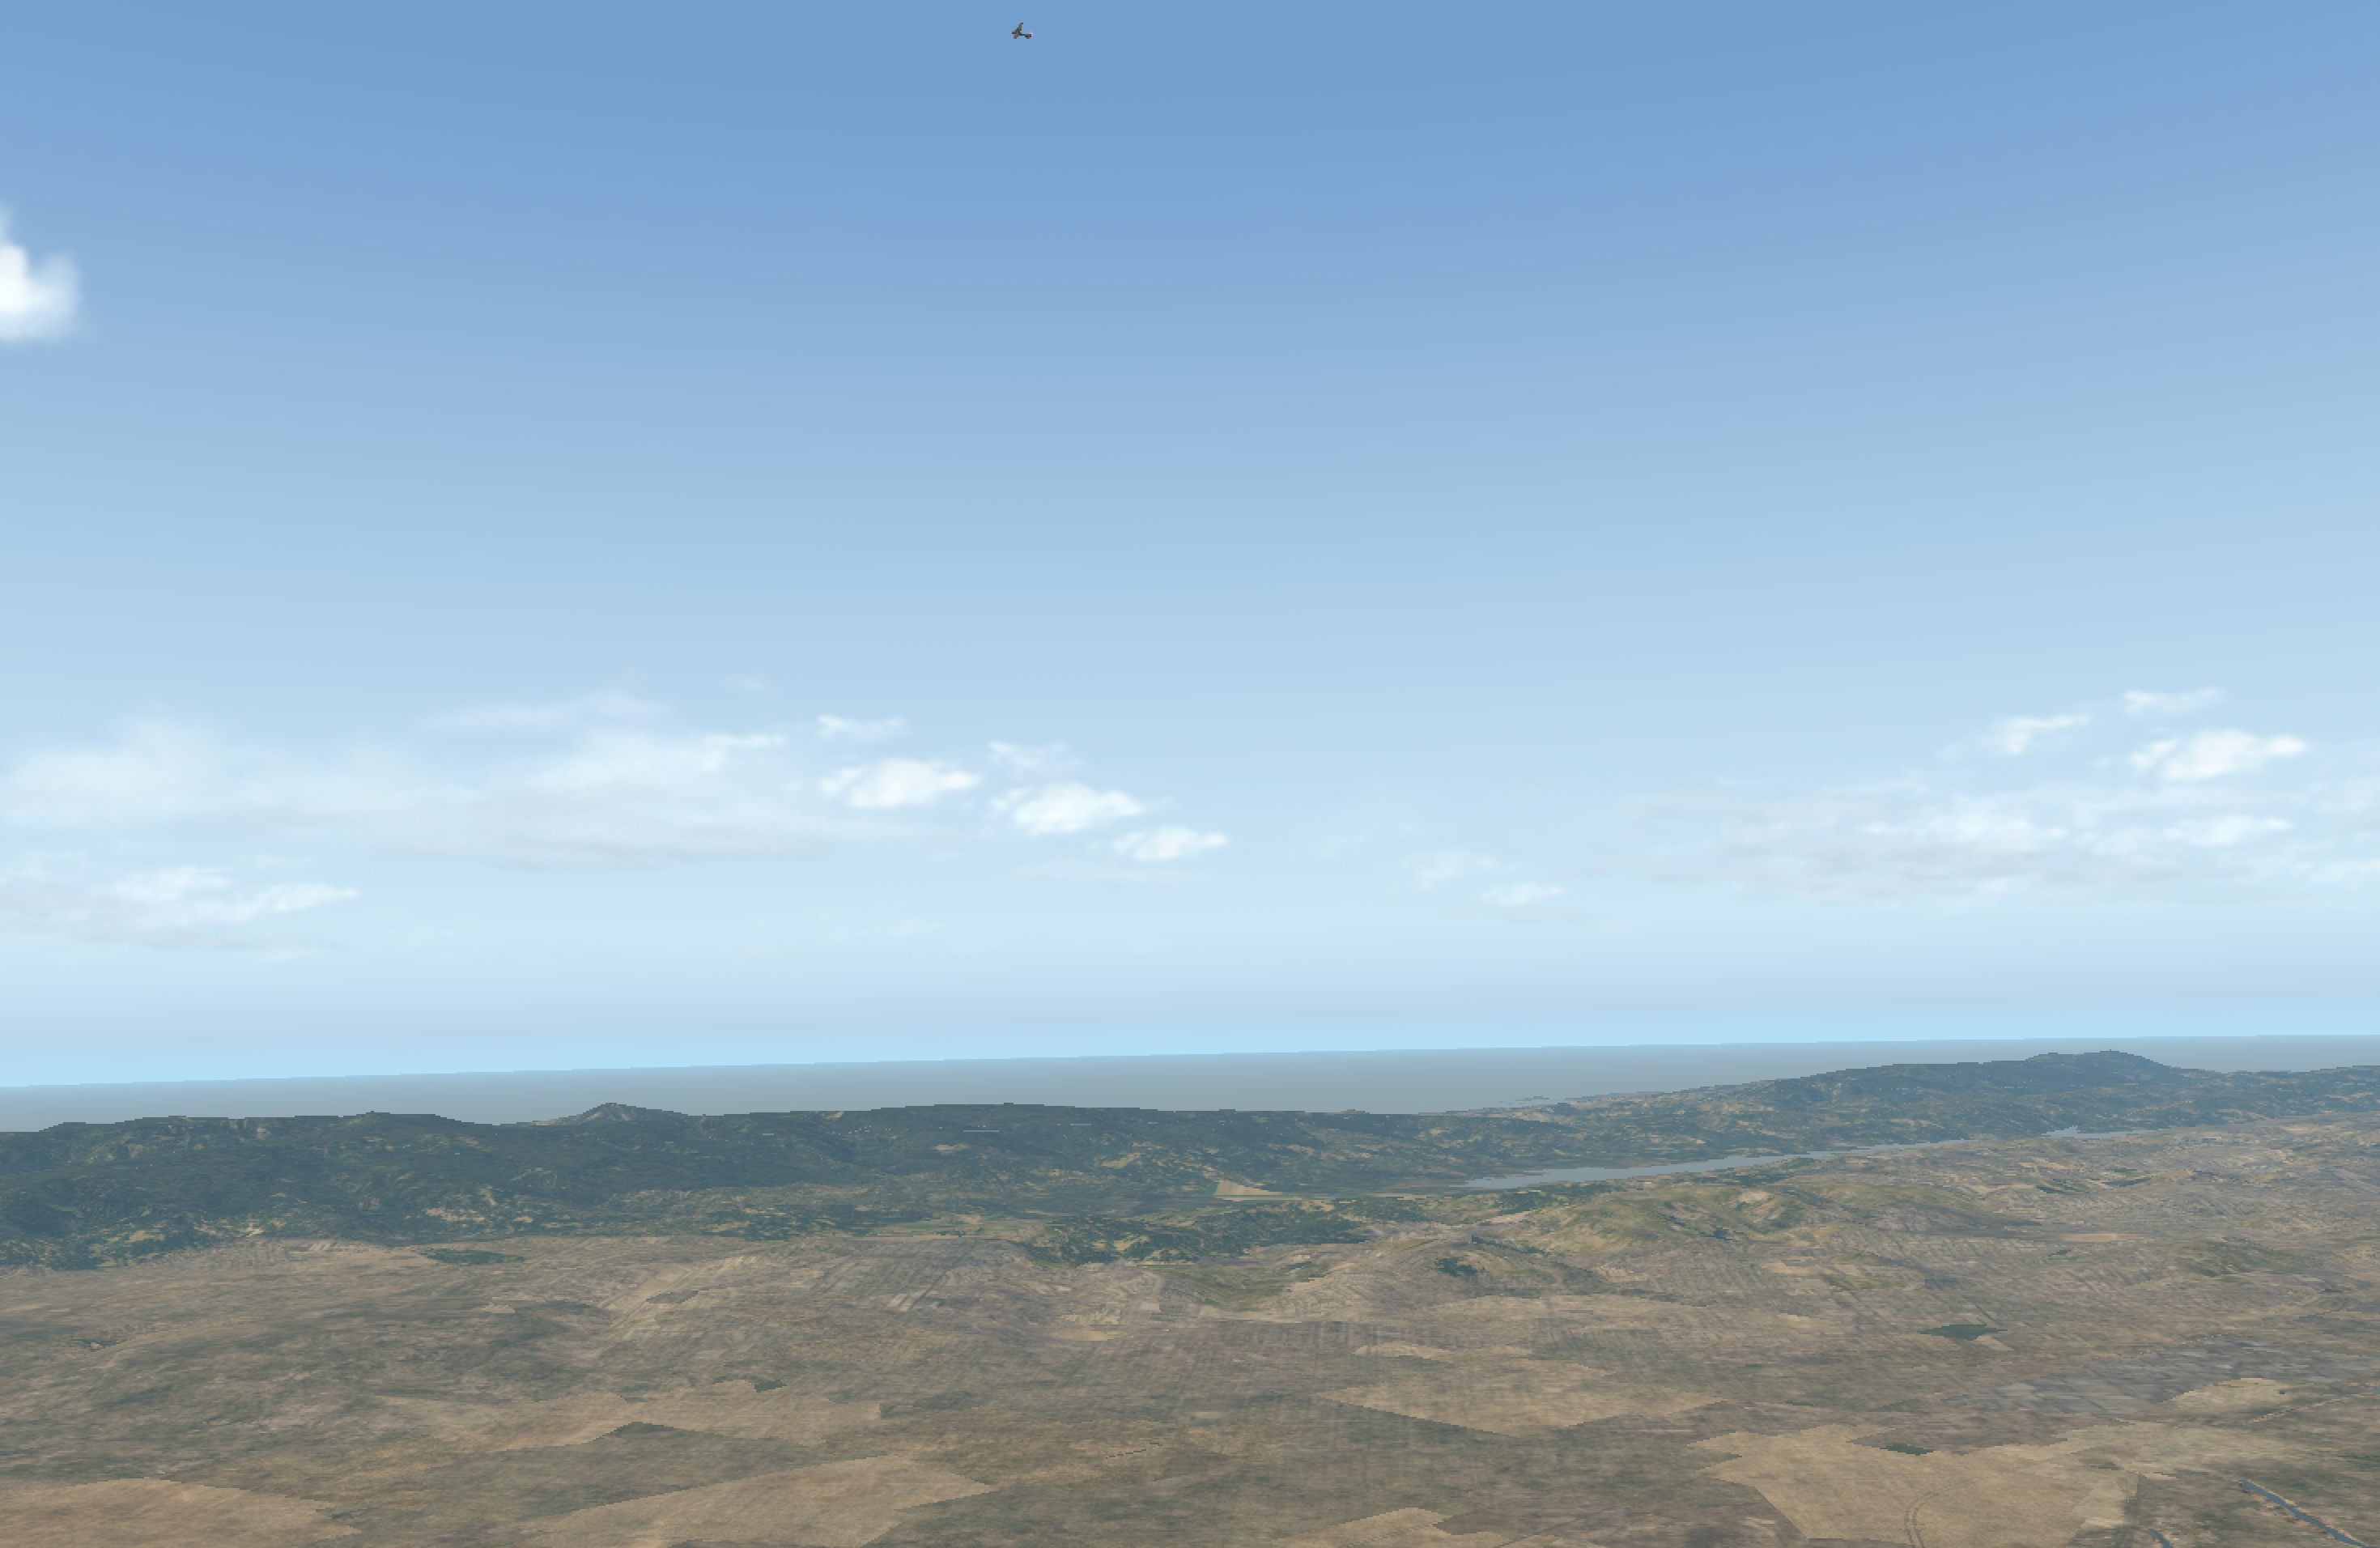aircraft: (1006, 28, 1027, 36)
